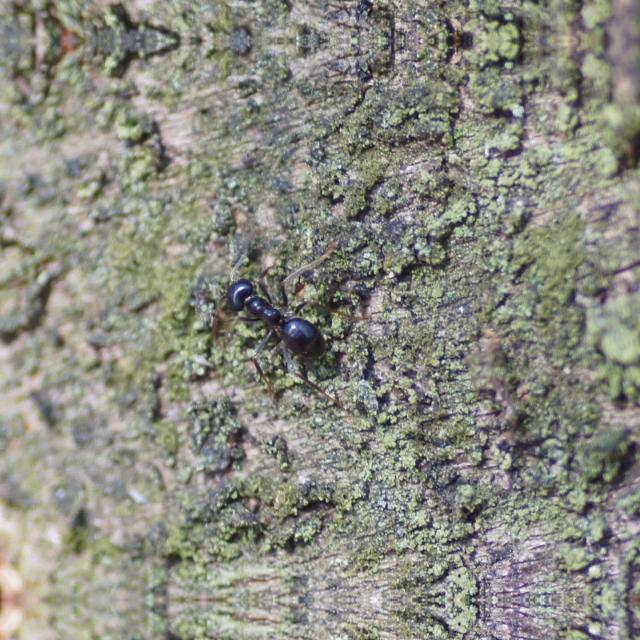Lasius: (222, 251, 334, 375)
